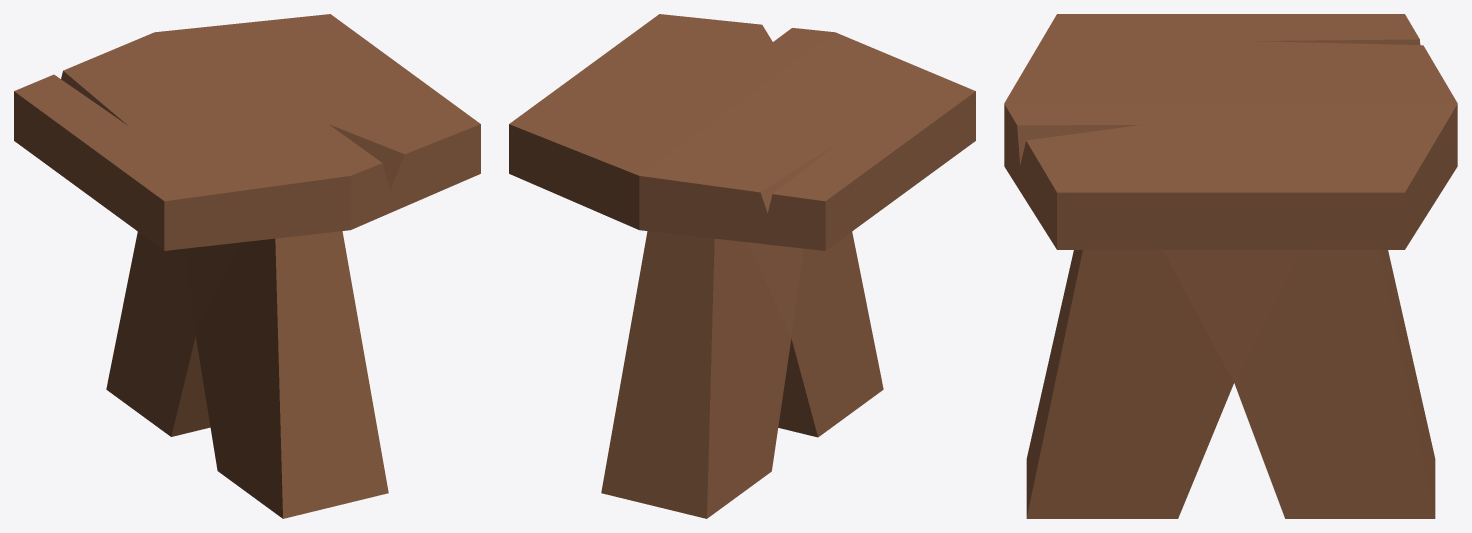
File: bench02.fbx
The picture shows the model from 3 angles, left to right: view 1: azimuth 30°, elevation 25°; view 2: azimuth 150°, elevation 25°; view 3: azimuth 270°, elevation 25°; orthographic projection. The views are drawn at different scales.
Visible parts, largest first — view 1: bench02; view 2: bench02; view 3: bench02.
Part boxes in pixels (x1,y1,x2,y2): bench02: (14, 14, 480, 518); bench02: (509, 14, 975, 518); bench02: (1004, 14, 1457, 518).
Bounding box in the file's own units: 40.24 × 40.84 × 43.2.
Materials: 1 (1 with a texture image).
